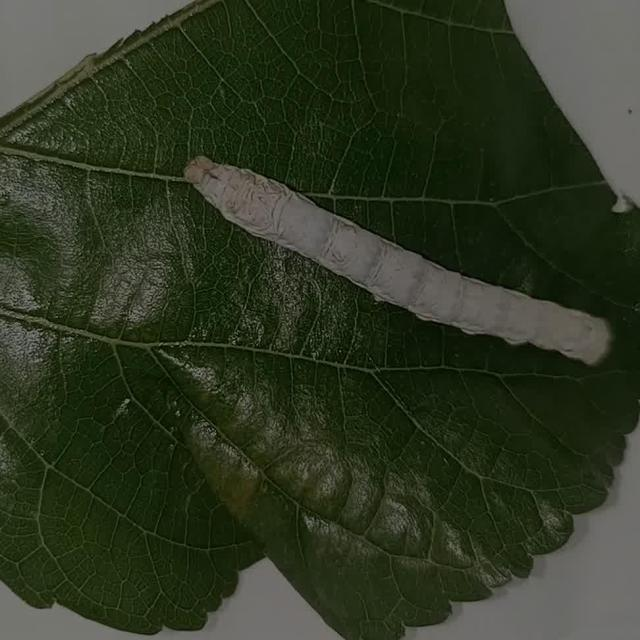Healthy: (158, 133, 625, 417)
